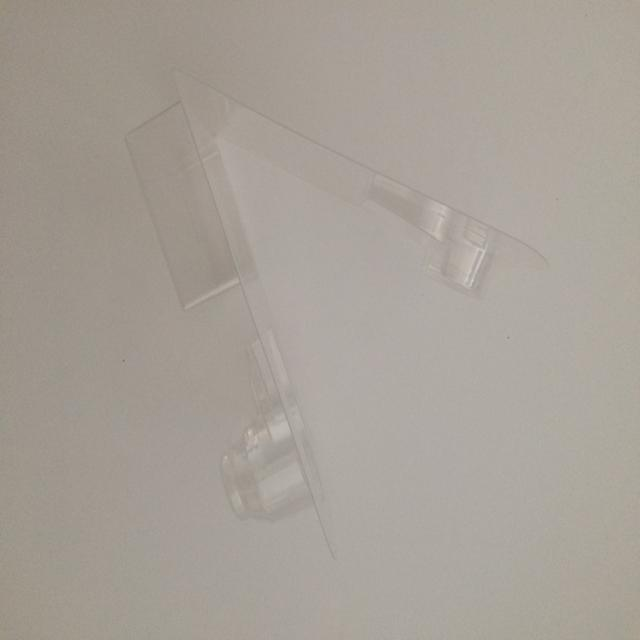plastic: (104, 47, 512, 588)
